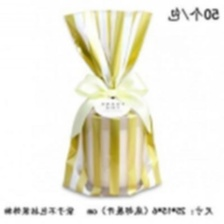snack: (54, 3, 171, 203)
